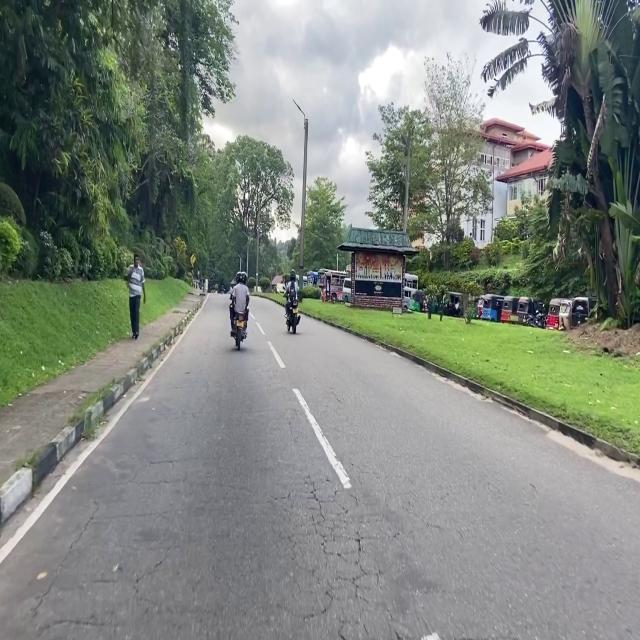bus: (318, 269, 346, 301), (404, 273, 418, 289), (307, 271, 319, 285)
motorcycle: (287, 298, 300, 334), (234, 313, 246, 350), (528, 308, 546, 329)
person: (127, 253, 145, 339), (230, 271, 249, 336), (285, 270, 298, 327)
three wheeler: (559, 297, 588, 331), (517, 297, 544, 324), (482, 295, 504, 321), (442, 292, 463, 317), (547, 298, 562, 329), (501, 296, 518, 323), (409, 290, 425, 312), (477, 297, 484, 319)
van: (343, 278, 351, 302), (404, 287, 412, 308)
